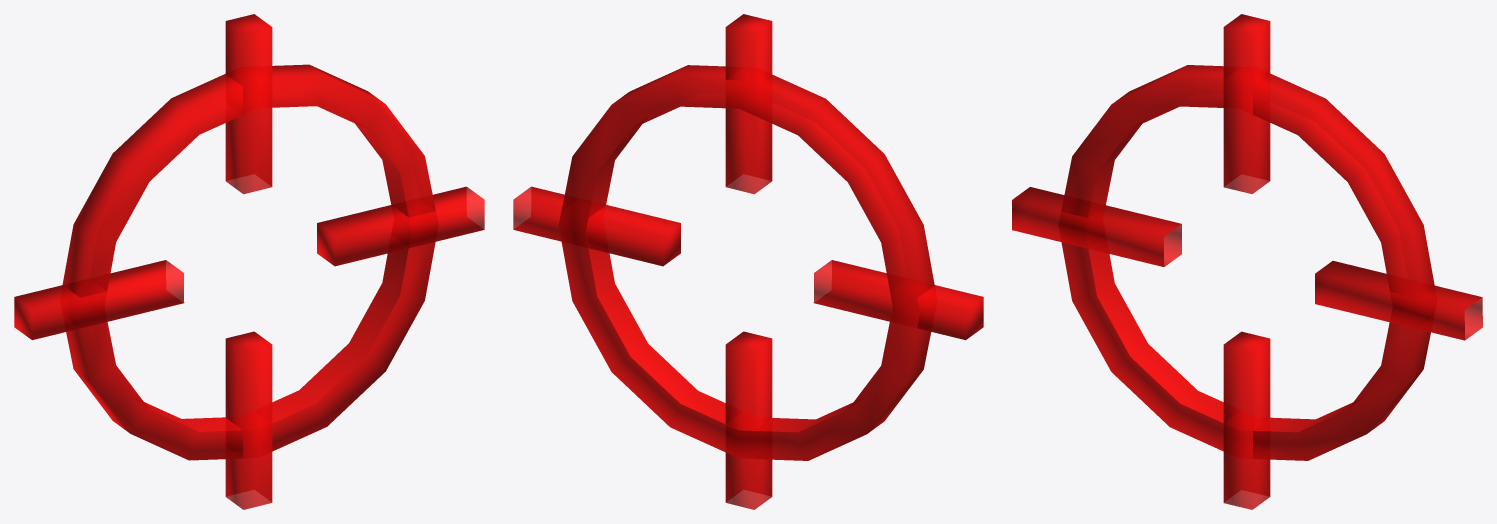
File: PlayerTarget.fbx
3 views of the same model, side by side, from view 1: azimuth 30°, elevation 25°; view 2: azimuth 150°, elevation 25°; view 3: azimuth 330°, elevation 25° (orthographic).
Visible parts, largest first — view 1: Plane.001; view 2: Plane.001; view 3: Plane.001.
Boxes of the visible parts, x1,y1,x2,y2 form: Plane.001: (14, 14, 484, 509); Plane.001: (513, 14, 983, 509); Plane.001: (1012, 14, 1482, 509).
Size of the model in its own units: 1.8 by 1.81 by 0.1253.
